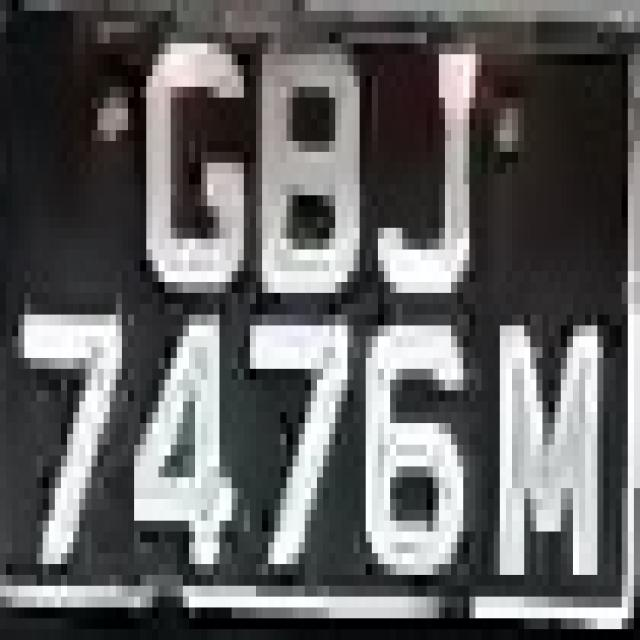4: (134, 293, 238, 618)
6: (342, 293, 464, 596)
7: (0, 271, 122, 597), (243, 271, 359, 586)
B: (256, 44, 372, 326)
G: (122, 22, 262, 325)
J: (366, 11, 494, 325)
M: (469, 293, 616, 607)
